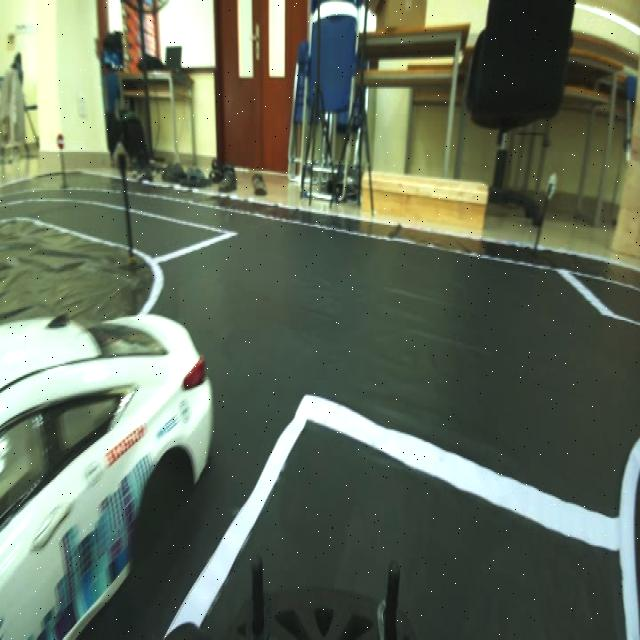car: (2, 299, 215, 640)
